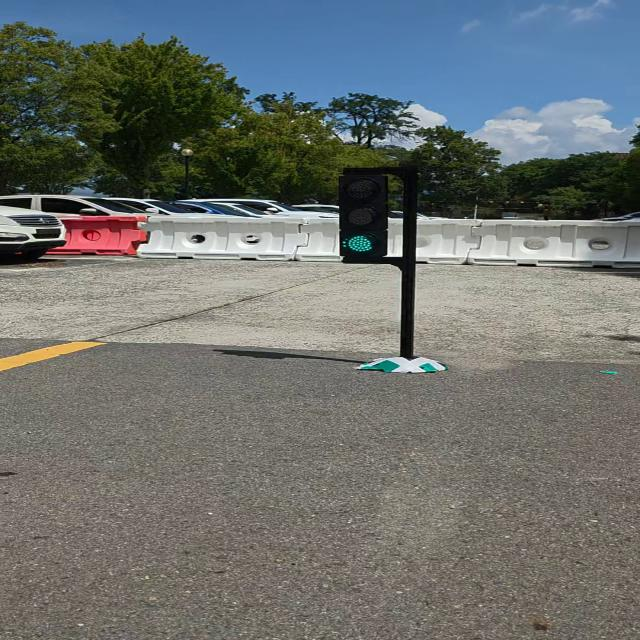green: (338, 175, 390, 264)
